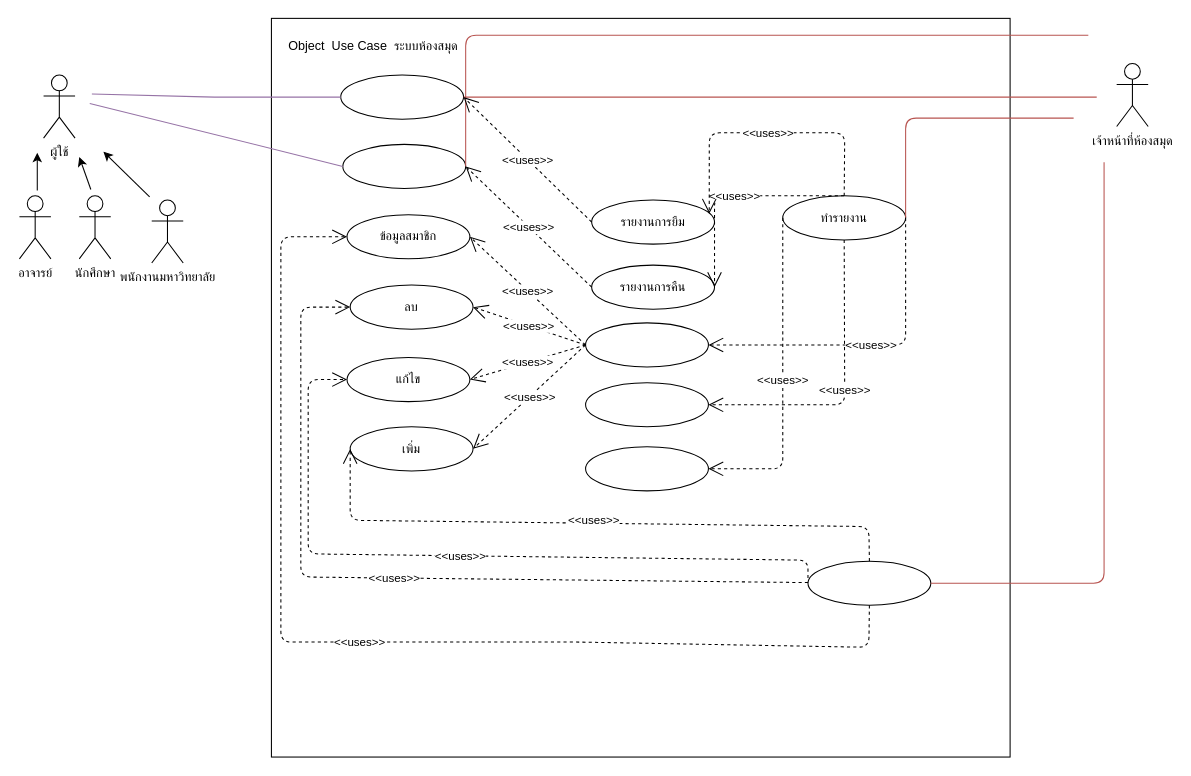
Image size: 1191x776. Some labels were removed from this diagram. Each missing label, with the box of its shape:
จัดการทรัพยากร: (807, 560, 931, 605)
บริการคืนหนังสือ: (342, 143, 466, 188)
บริการยืมหนังสือ: (340, 74, 464, 119)
รายงานค่าปรับสินค้า: (585, 382, 708, 427)
รายงานจำนวนสมาชิก: (585, 322, 708, 367)
รายงานจำนวนหนังสือและวรสารใหม่: (585, 446, 708, 491)
